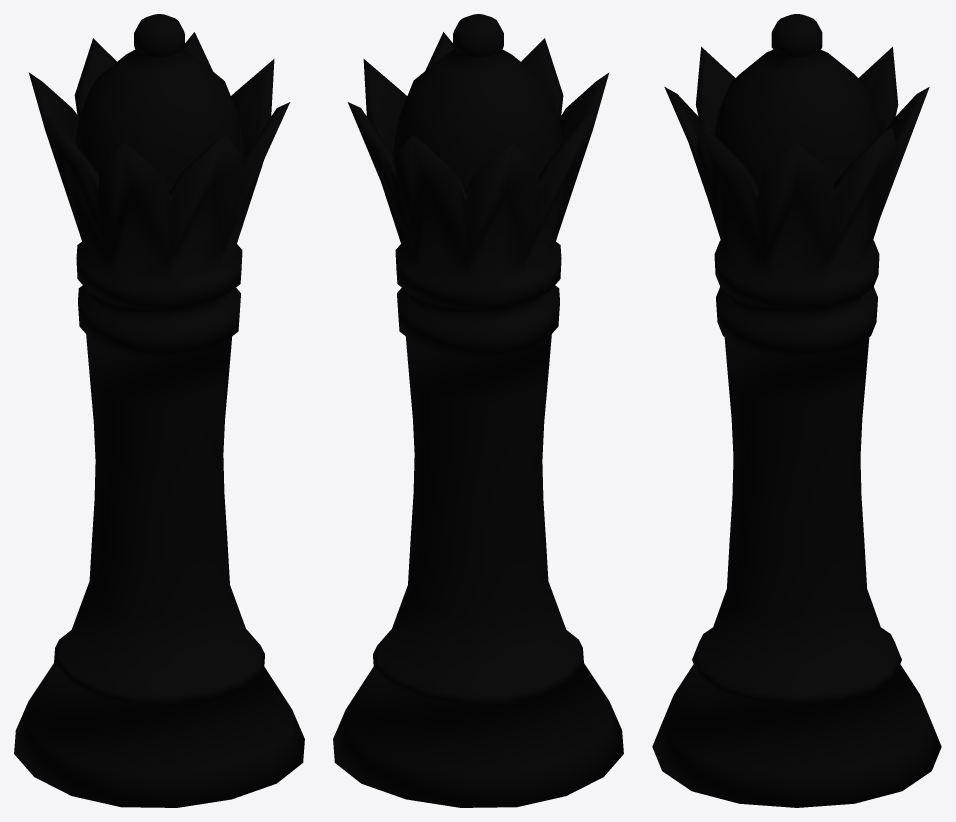
Rendered from Rainha.fbx.
3 renders of one model, left to right at view 1: azimuth 30°, elevation 25°; view 2: azimuth 150°, elevation 25°; view 3: azimuth 270°, elevation 25°, orthographic.
Parts seen in each view (by area): view 1: Cube; view 2: Cube; view 3: Cube.
Boxes of the visible parts, box(x1,y1,x2,y2) form: Cube: box(14, 14, 304, 807); Cube: box(333, 14, 623, 807); Cube: box(652, 14, 941, 807).
Bounding box in the file's own units: 138 × 382 × 138.
